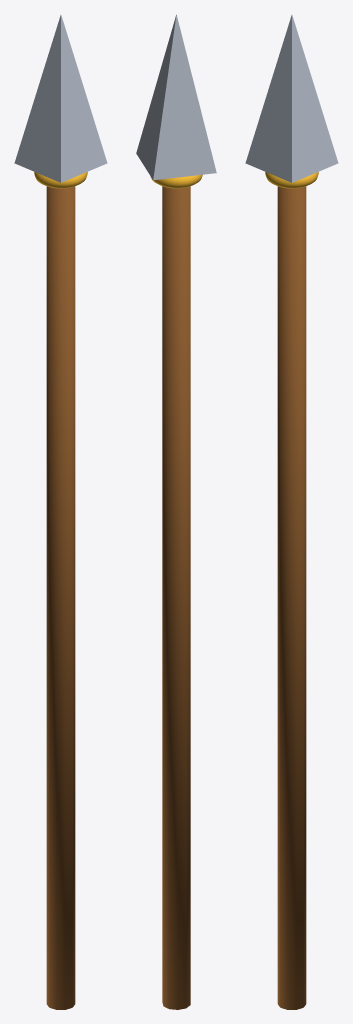
Rendered from spear.glb.
3 views of the same model, side by side, from view 1: azimuth 90°, elevation 25°; view 2: azimuth 150°, elevation 25°; view 3: azimuth 270°, elevation 25° (orthographic).
Parts seen in each view (by area): view 1: shaft, head, ring; view 2: shaft, head, ring; view 3: shaft, head, ring.
Part boxes in pixels (x1,y1,x2,y2): shaft: (46,186,75,1009); head: (14,15,107,182); ring: (34,172,87,188); shaft: (162,186,190,1009); head: (136,14,216,180); ring: (150,174,202,188); shaft: (277,186,306,1009); head: (245,15,338,182); ring: (265,172,318,188).
Size of the model in its own units: 0.26 by 3.05 by 0.26.
